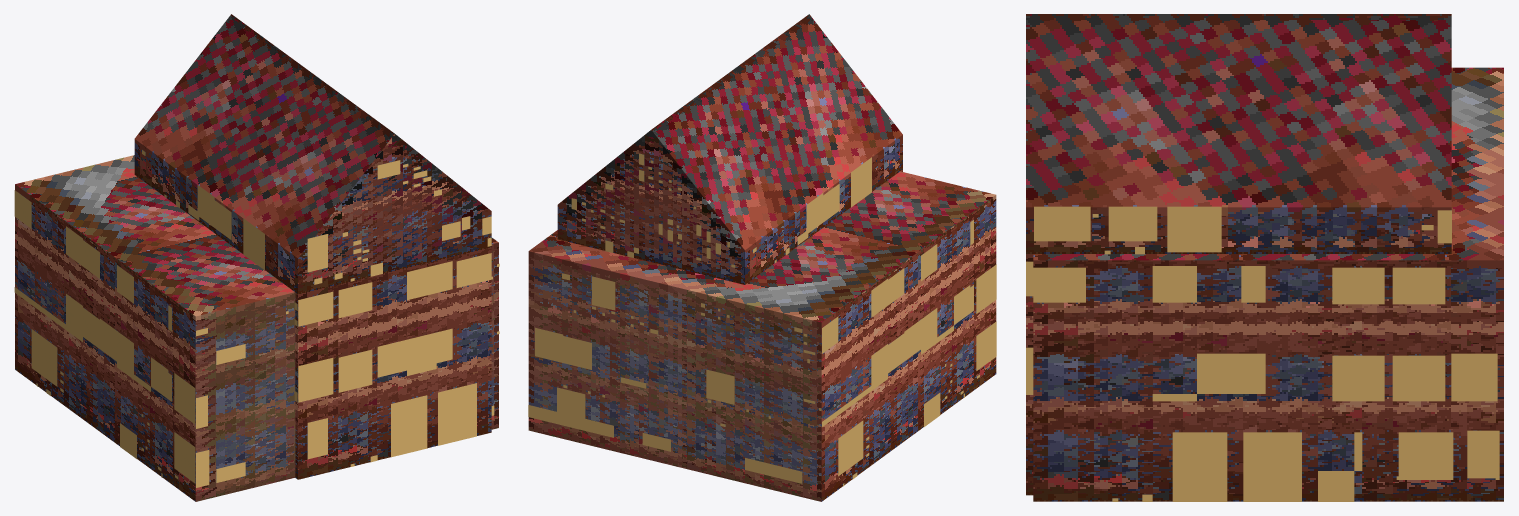
File: dum_40_obchody.glb
The picture shows the model from 3 angles, left to right: view 1: azimuth 30°, elevation 25°; view 2: azimuth 150°, elevation 25°; view 3: azimuth 270°, elevation 25°; orthographic projection. The views are drawn at different scales.
Parts seen in each view (by area): view 1: object 1, noc; view 2: object 1, noc; view 3: object 1, noc.
Part boxes in pixels (x1,y1,x2,y2): object 1: (15,14,498,501); noc: (14,150,499,487); object 1: (528,14,996,501); noc: (528,153,996,486); object 1: (1026,14,1503,501); noc: (1026,206,1499,501).
Bounding box in the file's own units: 14.15 × 14.34 × 14.84.
1 material, 1 textured.
